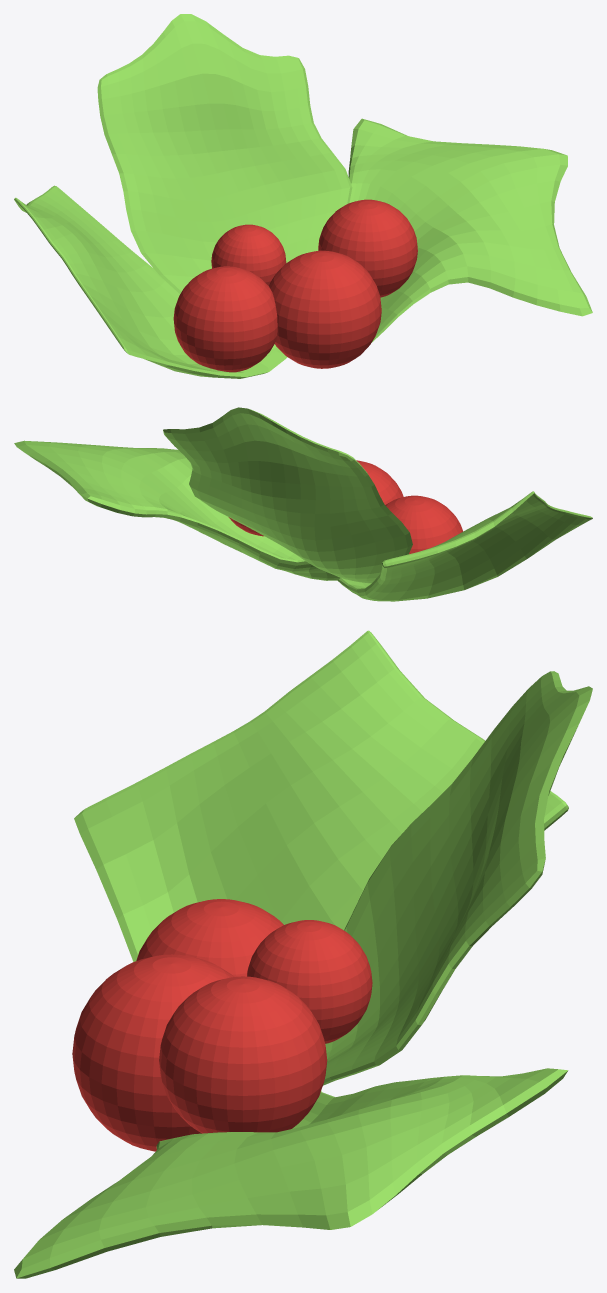
The model's file is Mistlettoe.fbx.
3 renders of one model, top to bottom at view 1: azimuth 30°, elevation 25°; view 2: azimuth 150°, elevation 25°; view 3: azimuth 270°, elevation 25°, orthographic. The views are drawn at different scales.
Visible parts, largest first — view 1: Cube, Cube.001, Cube.002, Sphere.002, Sphere, Sphere.003, Sphere.001; view 2: Cube, Cube.001, Cube.002, Sphere, Sphere.002; view 3: Cube.002, Cube.001, Cube, Sphere.003, Sphere.002, Sphere.001, Sphere.
Boxes of the visible parts, x1,y1,x2,y2 form: Cube: [97, 14, 352, 355]; Cube.001: [348, 118, 592, 342]; Cube.002: [14, 185, 287, 378]; Sphere.002: [269, 250, 381, 368]; Sphere: [173, 266, 277, 372]; Sphere.003: [318, 199, 417, 297]; Sphere.001: [211, 224, 286, 285]; Cube: [163, 407, 412, 583]; Cube.001: [14, 440, 339, 580]; Cube.002: [337, 491, 592, 601]; Sphere: [385, 495, 462, 554]; Sphere.002: [356, 460, 403, 504]; Cube.002: [74, 630, 568, 961]; Cube.001: [14, 1068, 568, 1278]; Cube: [323, 671, 592, 1085]; Sphere.003: [159, 976, 327, 1133]; Sphere.002: [72, 954, 234, 1151]; Sphere.001: [247, 920, 372, 1043]; Sphere: [136, 899, 283, 976].
Size of the model in its own units: 296 by 138 by 161.
